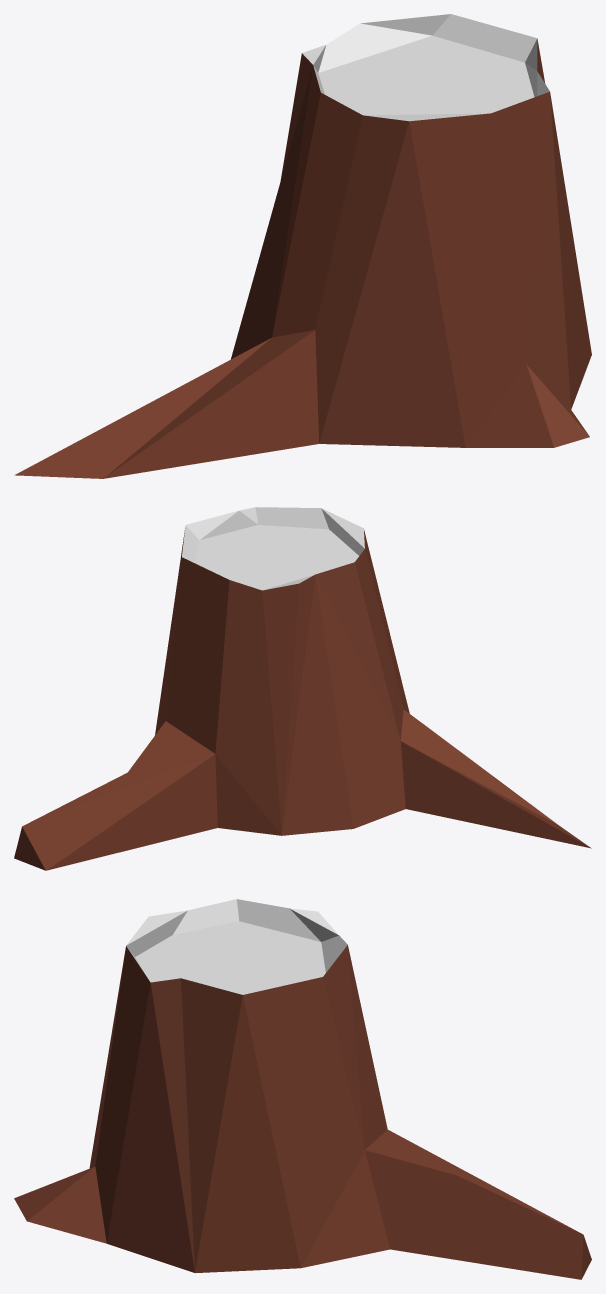
The model's file is pine_trunk_type_2_extra_LOD2.fbx.
3 renders of one model, top to bottom at view 1: azimuth 30°, elevation 25°; view 2: azimuth 150°, elevation 25°; view 3: azimuth 270°, elevation 25°, orthographic. The views are drawn at different scales.
Parts seen in each view (by area): view 1: pt_type_2_extra; view 2: pt_type_2_extra; view 3: pt_type_2_extra.
Part boxes in pixels (x1=…): pt_type_2_extra: x1=14, y1=14, x2=591, y2=478; pt_type_2_extra: x1=14, y1=507, x2=591, y2=870; pt_type_2_extra: x1=14, y1=899, x2=591, y2=1279.
Bounding box in the file's own units: 363 × 191 × 367.
